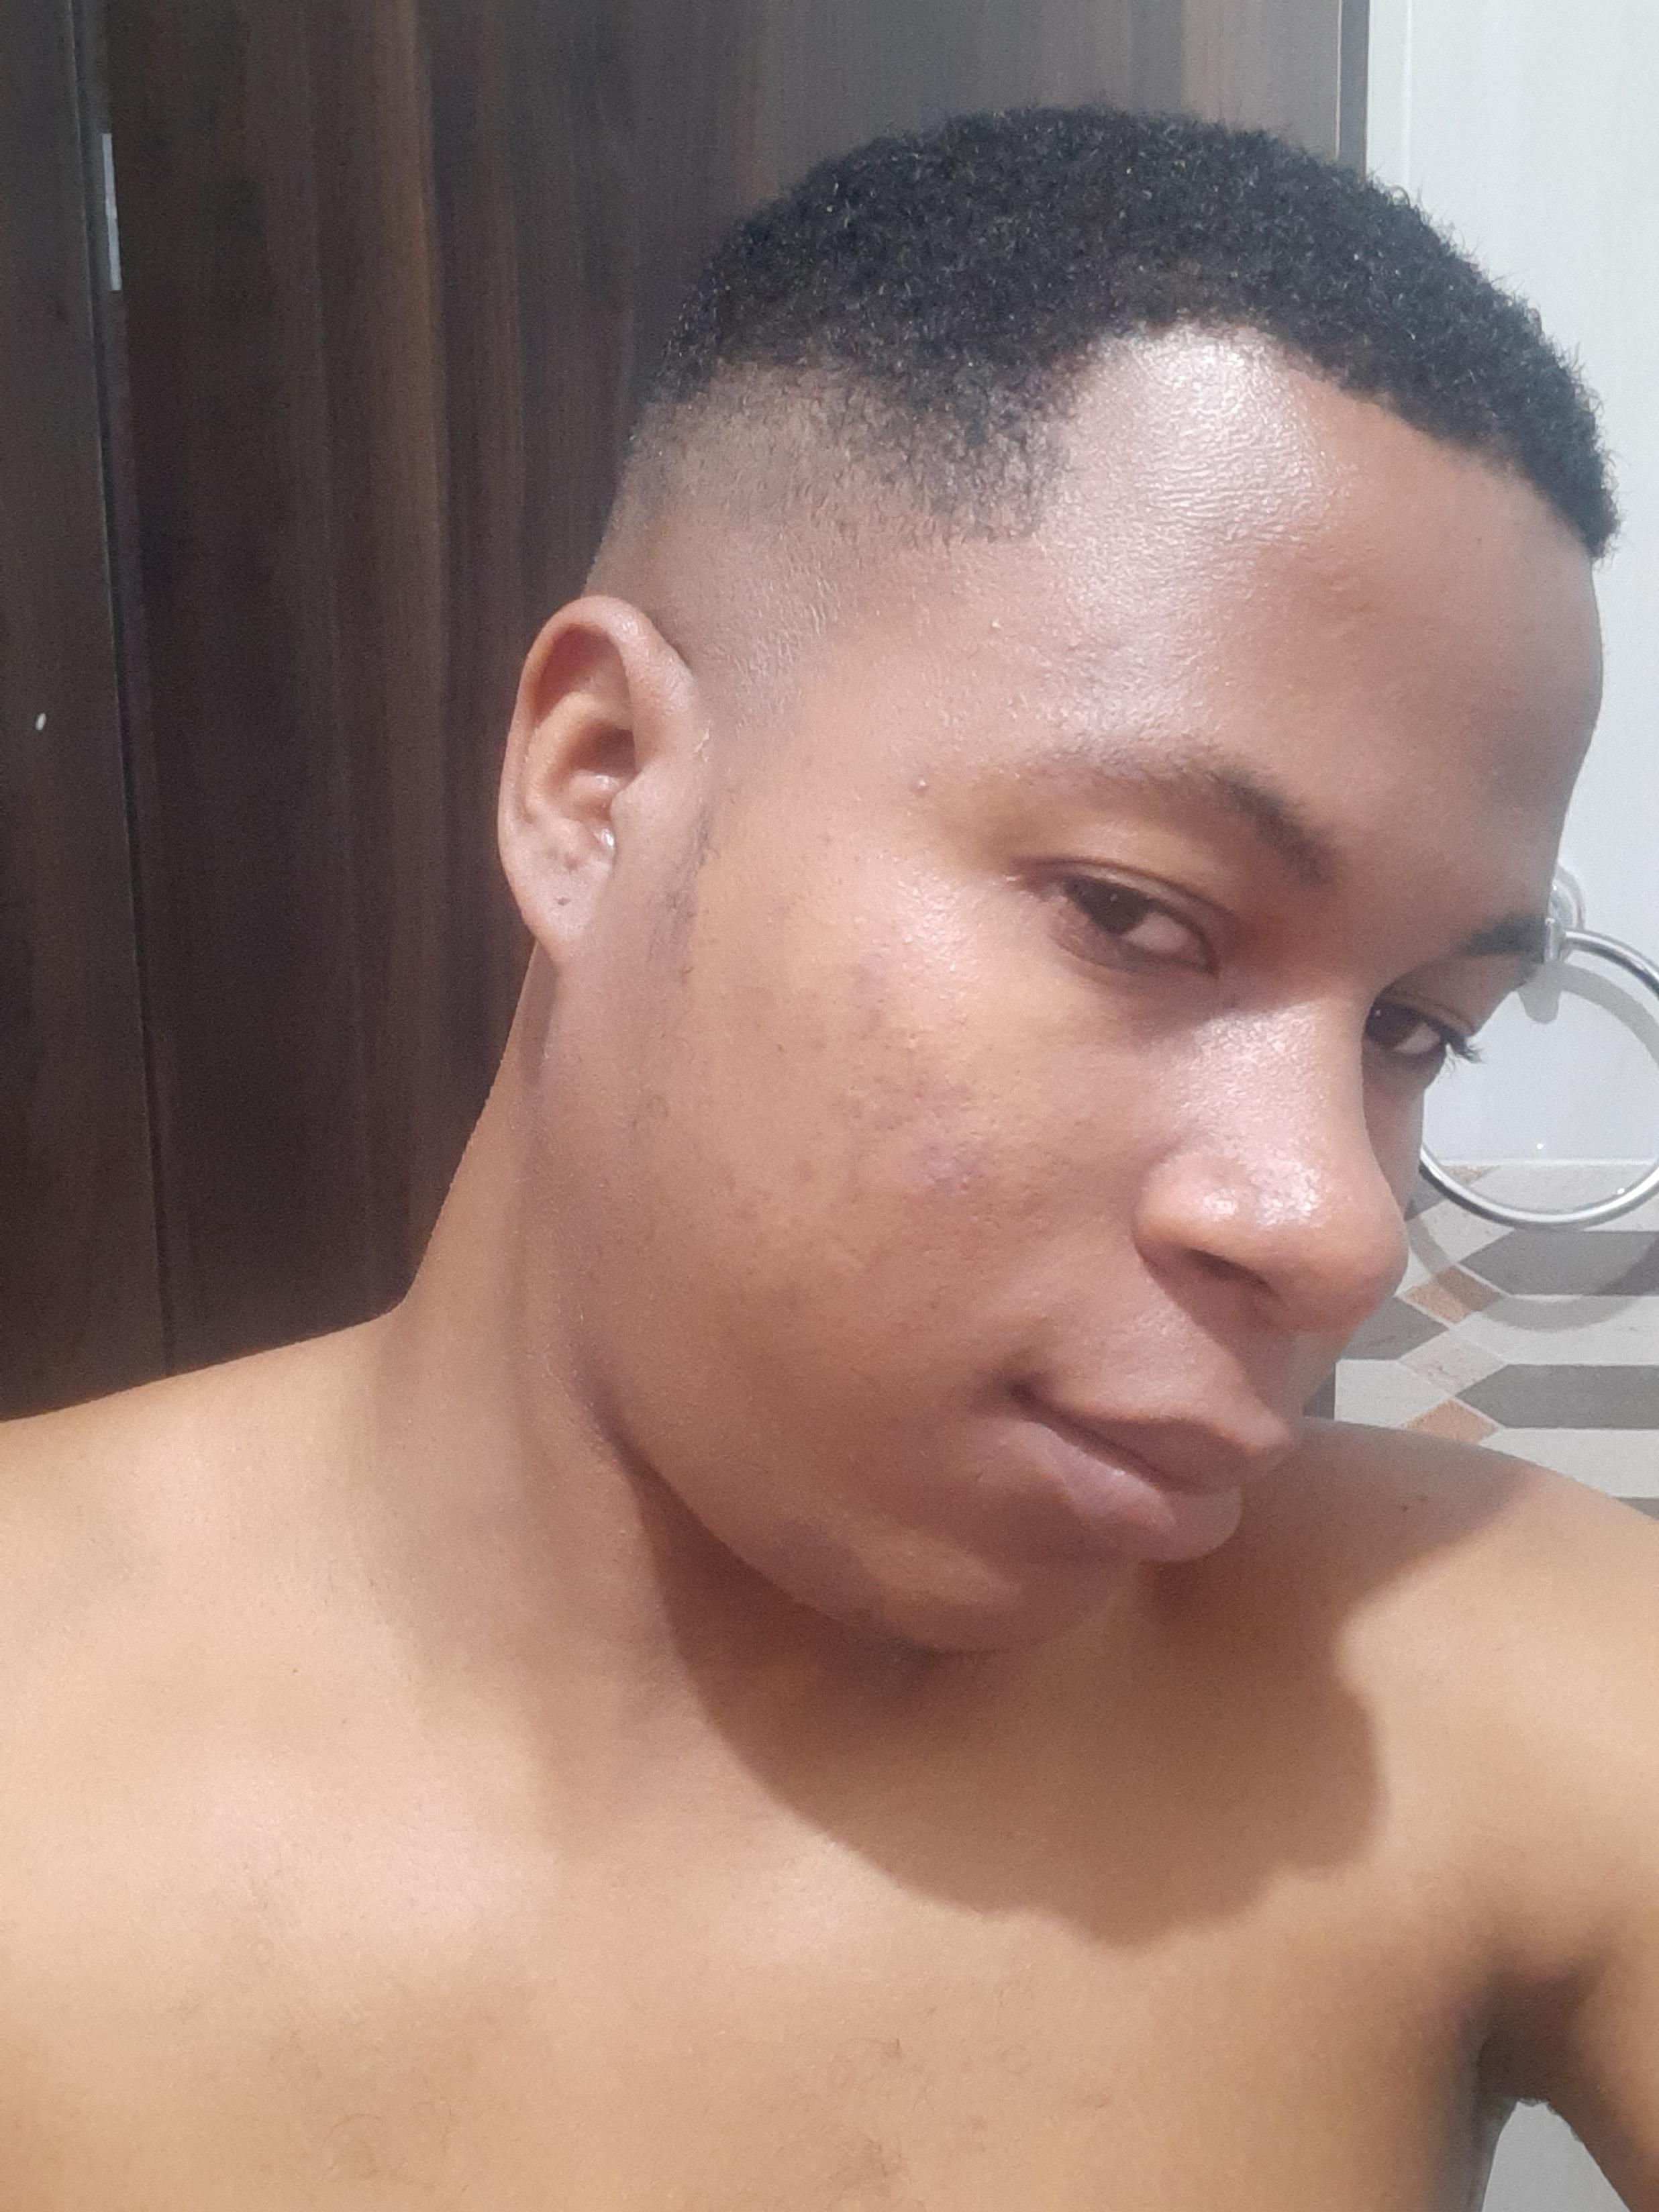Acne: (786, 1158, 828, 1197), (727, 1160, 765, 1202), (904, 777, 945, 799), (983, 610, 1004, 644)
Dry-Skin: (695, 716, 734, 765)
Englarged-Pores: (890, 1118, 1049, 1280), (857, 982, 992, 1106)
